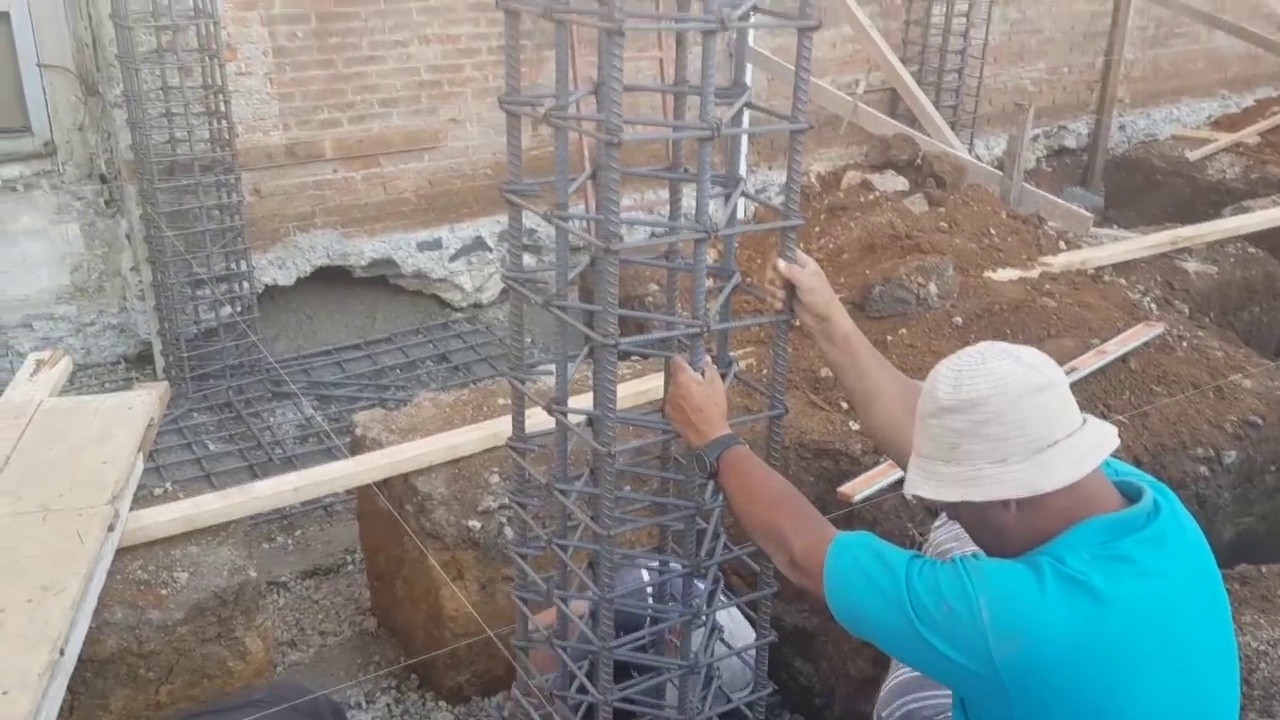helmet-off: (893, 352, 1146, 544), (666, 600, 757, 700)
person: (674, 243, 1248, 716), (523, 553, 762, 720)
